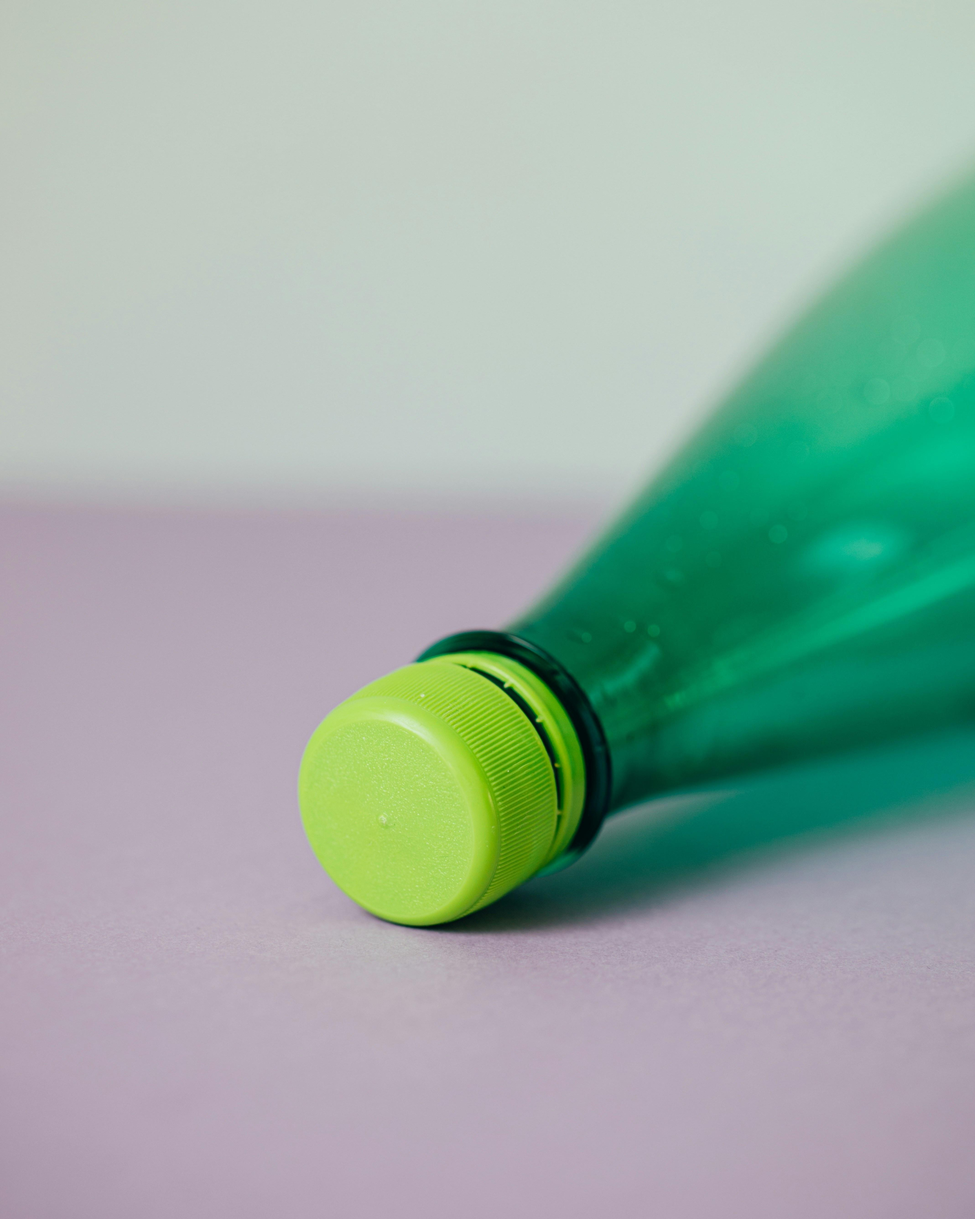Bottle-Detection: (265, 103, 975, 1052)
